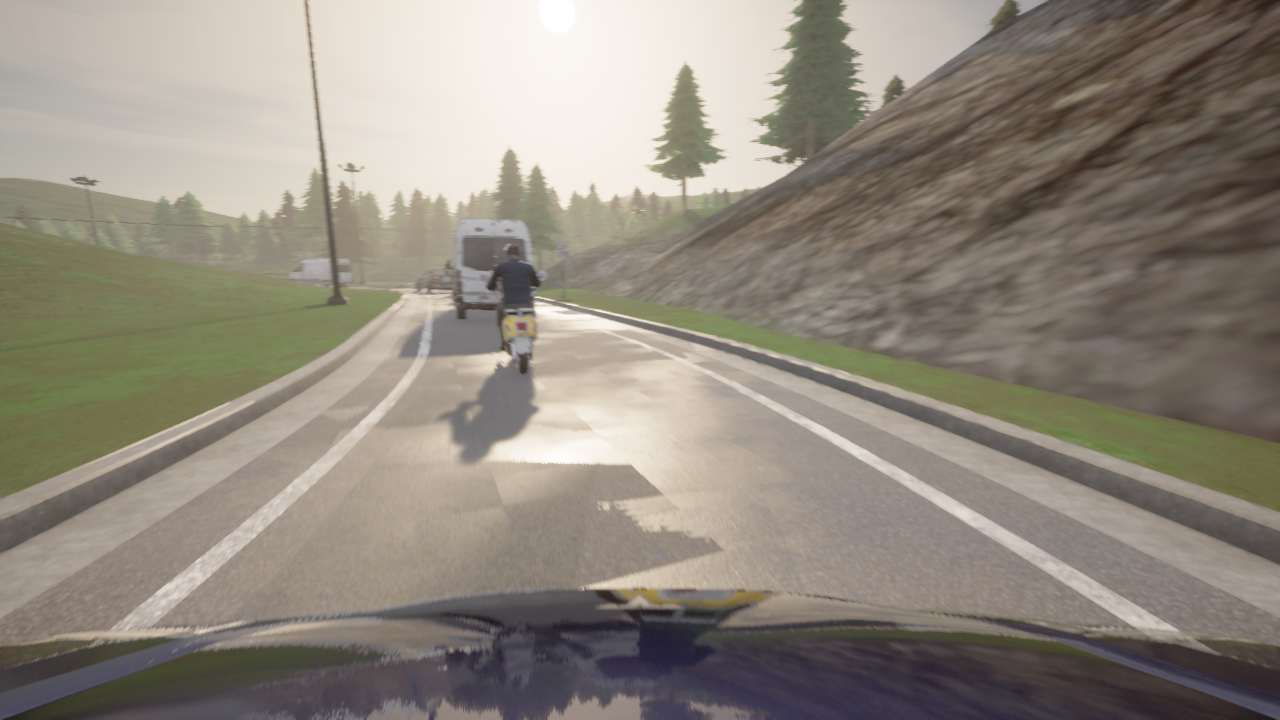cyclist: (0, 588, 1279, 719), (446, 219, 535, 319), (480, 271, 545, 374), (288, 258, 352, 286), (415, 267, 452, 292)
